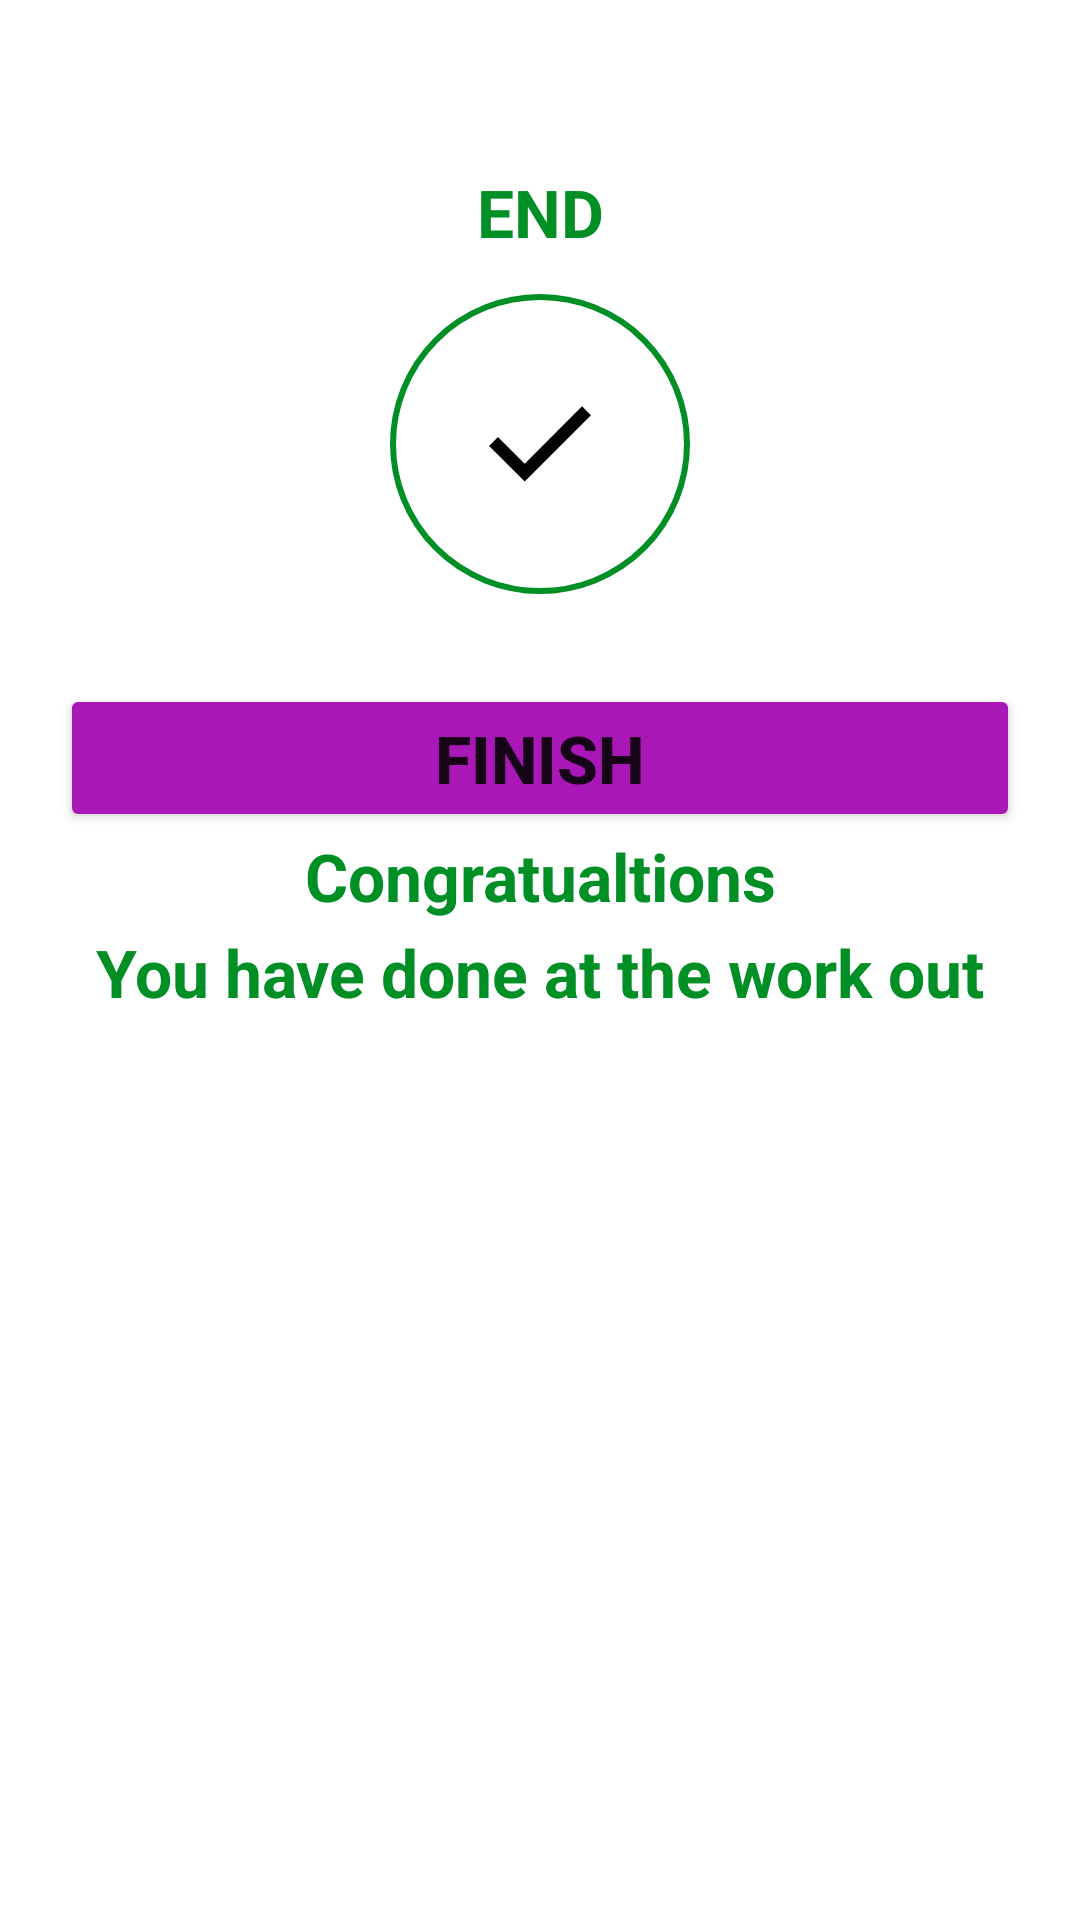

Locate icon controls on the screen. Image size 1080w x 1920h, boxes as (x1, y1, x2, y2).
check: (489, 406, 591, 482)
